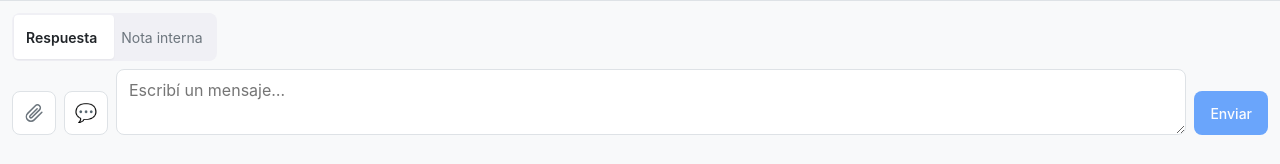
Composer — copy por modo (fase D, design §3.3) › modo nota: placeholder, label sr-only, botón y aria-label del form cambian
Click the radio button labelled "Nota interna" at (162, 37), box [121,28,203,46]
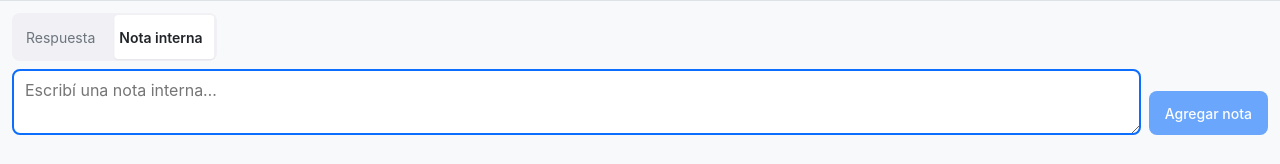
Expected: the button "Agregar nota" is shown, [1149,91,1268,135]
Expected: the form named "agregar nota interna" is shown
